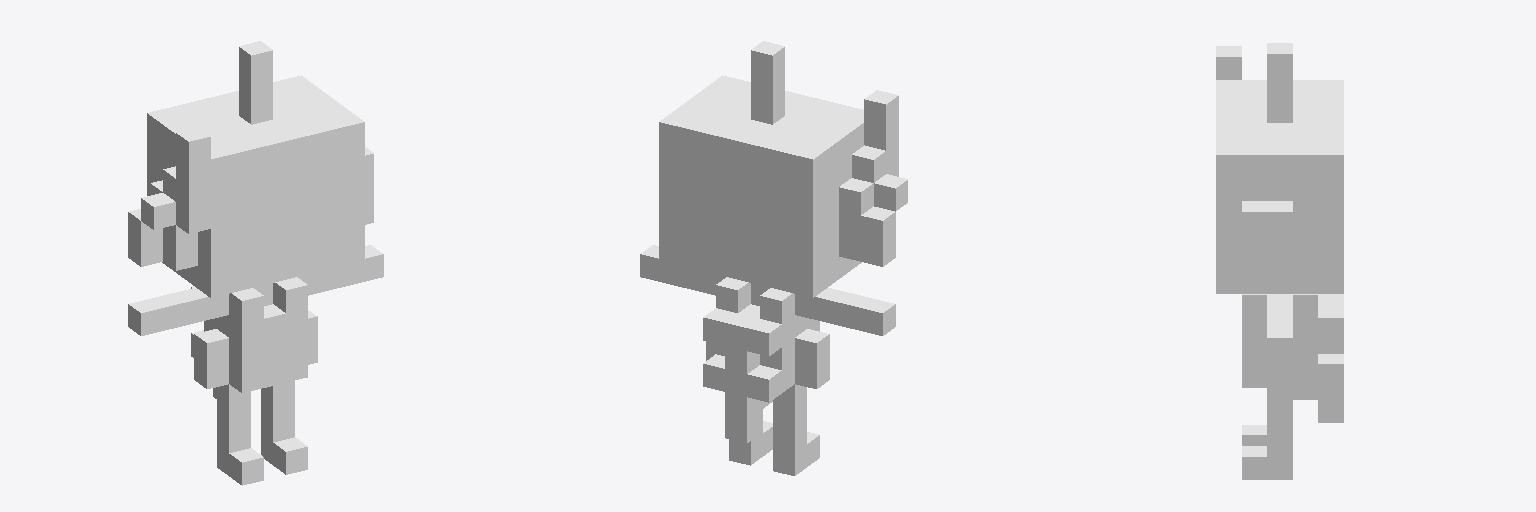
The model's file is robo_kari6.obj.
The picture shows the model from 3 angles: view 1: azimuth 30°, elevation 25°; view 2: azimuth 150°, elevation 25°; view 3: azimuth 270°, elevation 25°; orthographic projection.
Parts seen in each view (by area): view 1: object 1; view 2: object 1; view 3: object 1.
Part boxes in pixels (left/top/right/bottom): object 1: left=128, top=41, right=383, bottom=485; object 1: left=640, top=41, right=907, bottom=475; object 1: left=1216, top=43, right=1343, bottom=479.
Size of the model in its own units: 1.1 by 1.8 by 0.5.